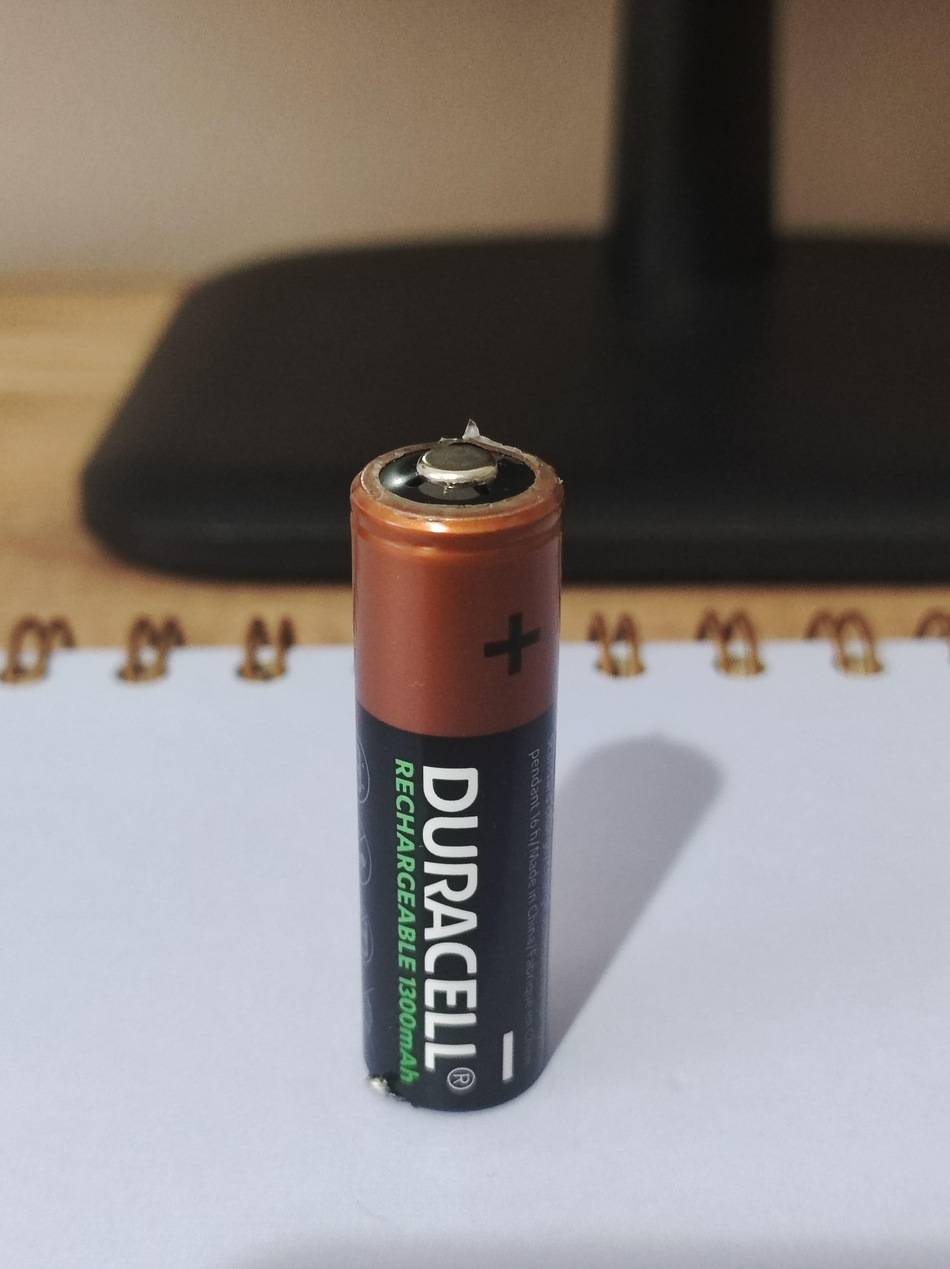AA: (347, 419, 565, 1111)
